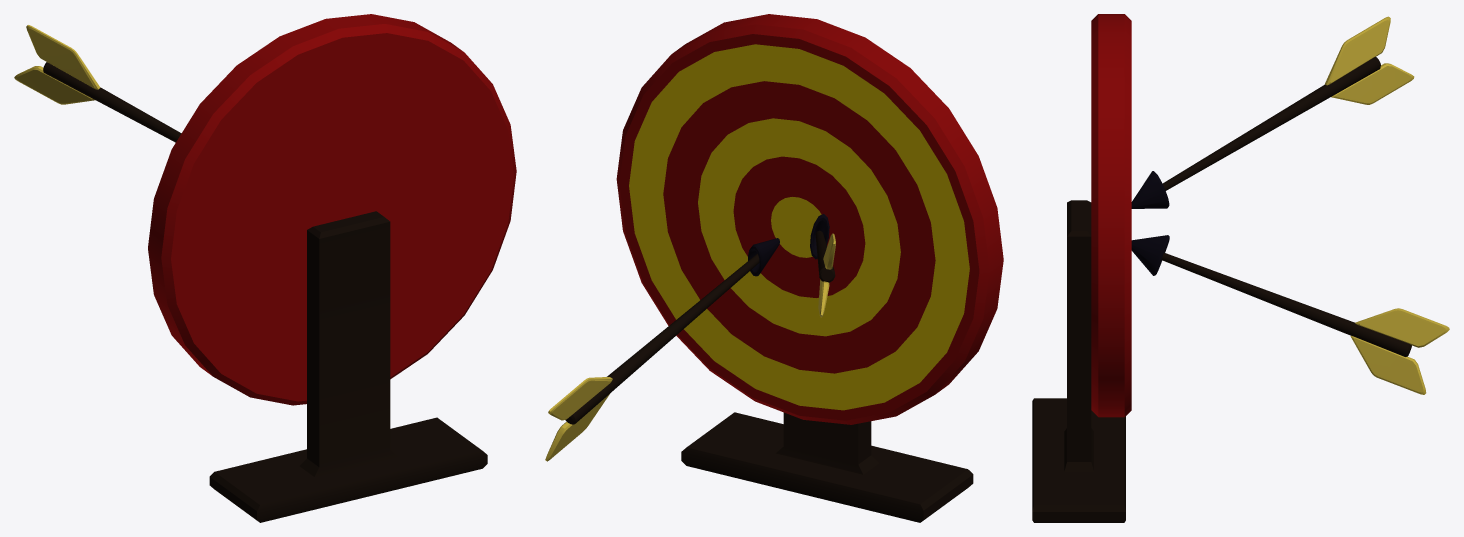
Rendered from Darts.FBX.
The picture shows the model from 3 angles, left to right: view 1: azimuth 30°, elevation 25°; view 2: azimuth 150°, elevation 25°; view 3: azimuth 270°, elevation 25°; orthographic projection. The views are drawn at different scales.
Parts seen in each view (by area): view 1: Darts; view 2: Darts; view 3: Darts.
Part boxes in pixels (<box>): Darts: <box>14,14,516,522</box>; Darts: <box>545,14,1003,522</box>; Darts: <box>1032,14,1449,522</box>.
Bounding box in the file's own units: 873 × 900 × 1041.
